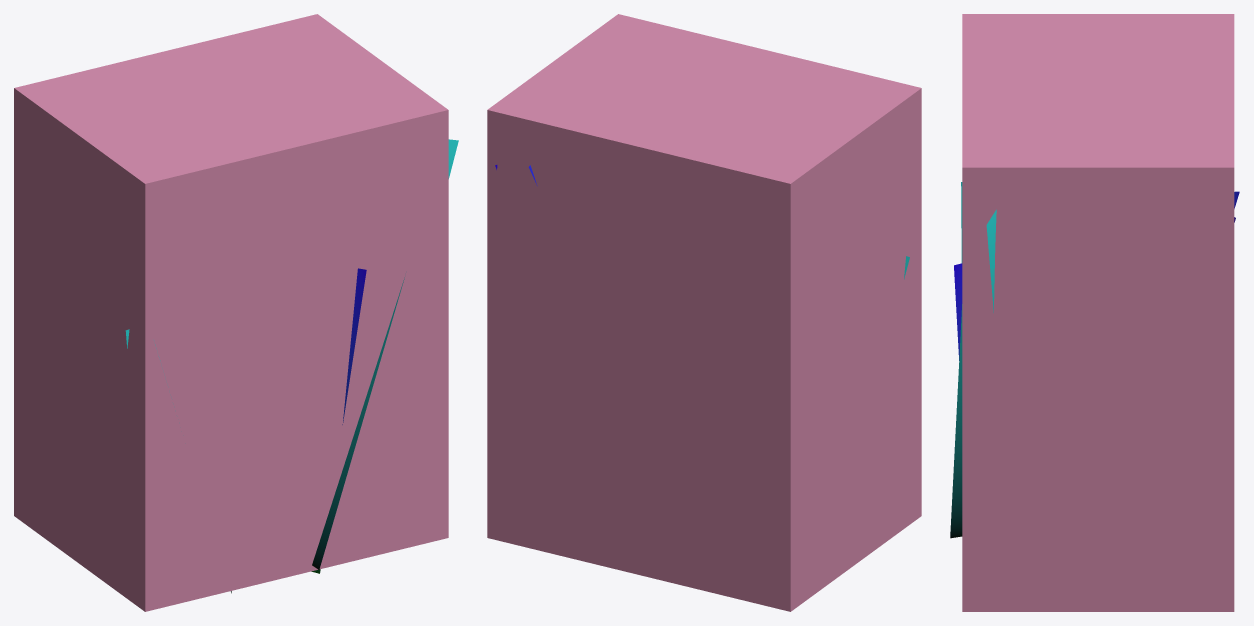
File: lush_grass_01_a.dae
3 views of the same model, side by side, from view 1: azimuth 30°, elevation 25°; view 2: azimuth 150°, elevation 25°; view 3: azimuth 270°, elevation 25° (orthographic). The views are drawn at different scales.
Visible parts, largest first — view 1: Untitled, tree_oak_bush_a80; view 2: Untitled; view 3: Untitled, tree_oak_bush_a80.
Part boxes in pixels (x1,y1,x2,y2): Untitled: (14, 14, 448, 611); tree_oak_bush_a80: (125, 139, 458, 593); Untitled: (487, 14, 921, 611); Untitled: (962, 14, 1234, 611); tree_oak_bush_a80: (950, 182, 1239, 538).
Bounding box in the file's own units: 0.6877 × 0.5047 × 0.9057.
